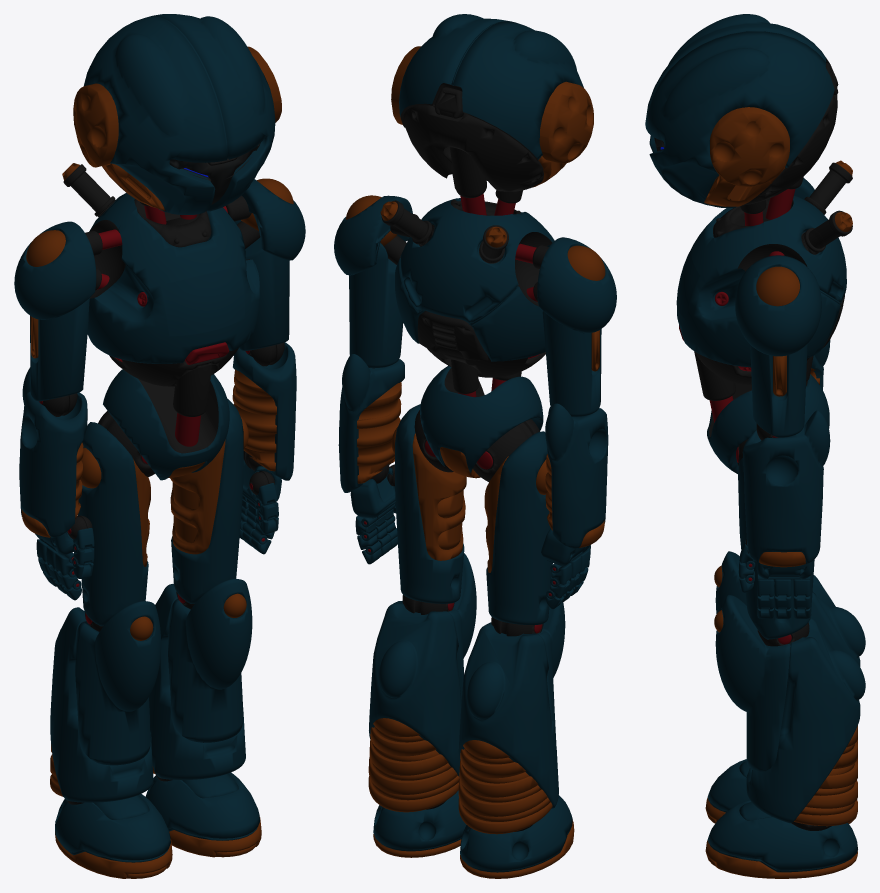
The model's file is OrbitRush_Droid.fbx.
3 renders of one model, left to right at view 1: azimuth 30°, elevation 25°; view 2: azimuth 150°, elevation 25°; view 3: azimuth 270°, elevation 25°, orthographic. The views are drawn at different scales.
Visible parts, largest first — view 1: Droid_color, Droid_color_001, Droid_plastic, Droid_logo, Droid_metal, Droid_glass_001; view 2: Droid_color, Droid_color_001, Droid_plastic, Droid_metal, Droid_glass_001; view 3: Droid_color, Droid_color_001, Droid_plastic, Droid_metal, Droid_glass_001, Droid_logo.
Part boxes in pixels (bbox=[...]): Droid_color: bbox=[14, 14, 305, 862]; Droid_color_001: bbox=[21, 46, 293, 878]; Droid_plastic: bbox=[42, 157, 284, 804]; Droid_logo: bbox=[161, 266, 244, 336]; Droid_metal: bbox=[39, 205, 264, 624]; Droid_glass_001: bbox=[71, 143, 260, 211]; Droid_color: bbox=[334, 14, 616, 872]; Droid_color_001: bbox=[345, 46, 605, 878]; Droid_plastic: bbox=[369, 83, 552, 831]; Droid_metal: bbox=[363, 193, 555, 633]; Droid_glass_001: bbox=[393, 208, 502, 258]; Droid_color: bbox=[645, 14, 865, 872]; Droid_color_001: bbox=[704, 107, 857, 878]; Droid_plastic: bbox=[694, 58, 852, 830]; Droid_metal: bbox=[679, 189, 795, 644]; Droid_glass_001: bbox=[654, 137, 846, 248]; Droid_logo: bbox=[676, 248, 700, 319].
Size of the model in its own units: 0.6795 by 1.91 by 0.4733.
